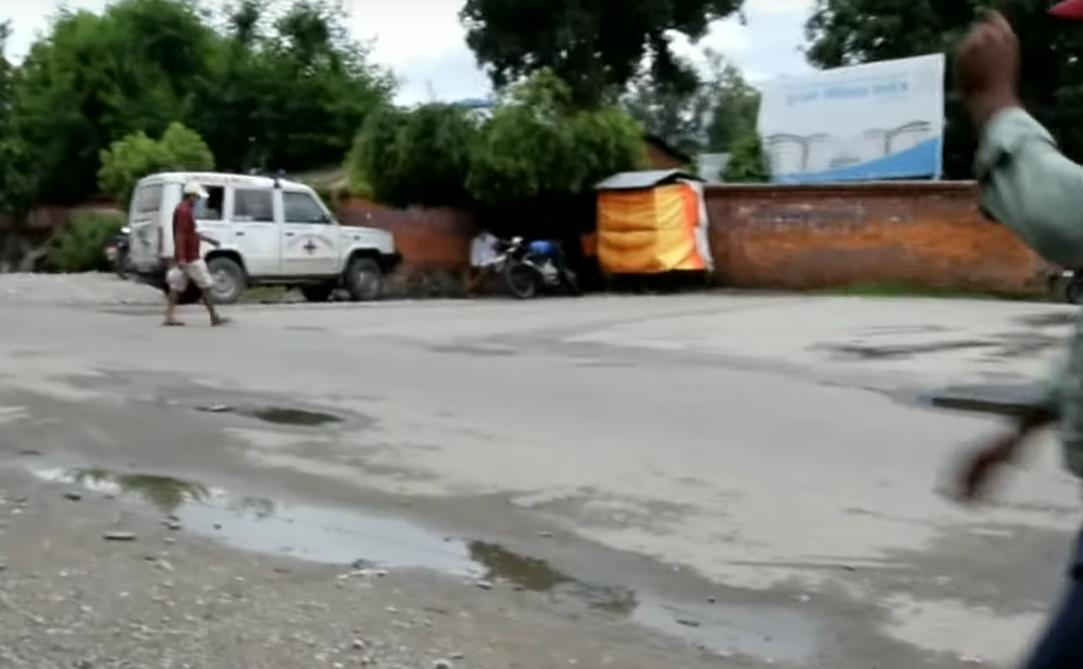ambulance: (121, 163, 401, 314)
